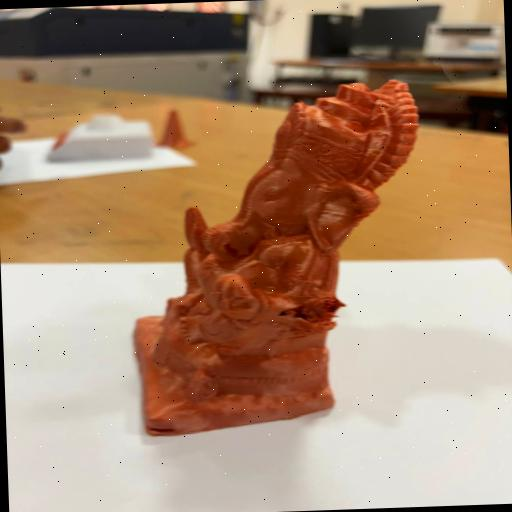cracks: (270, 288, 358, 336), (142, 410, 188, 443)
